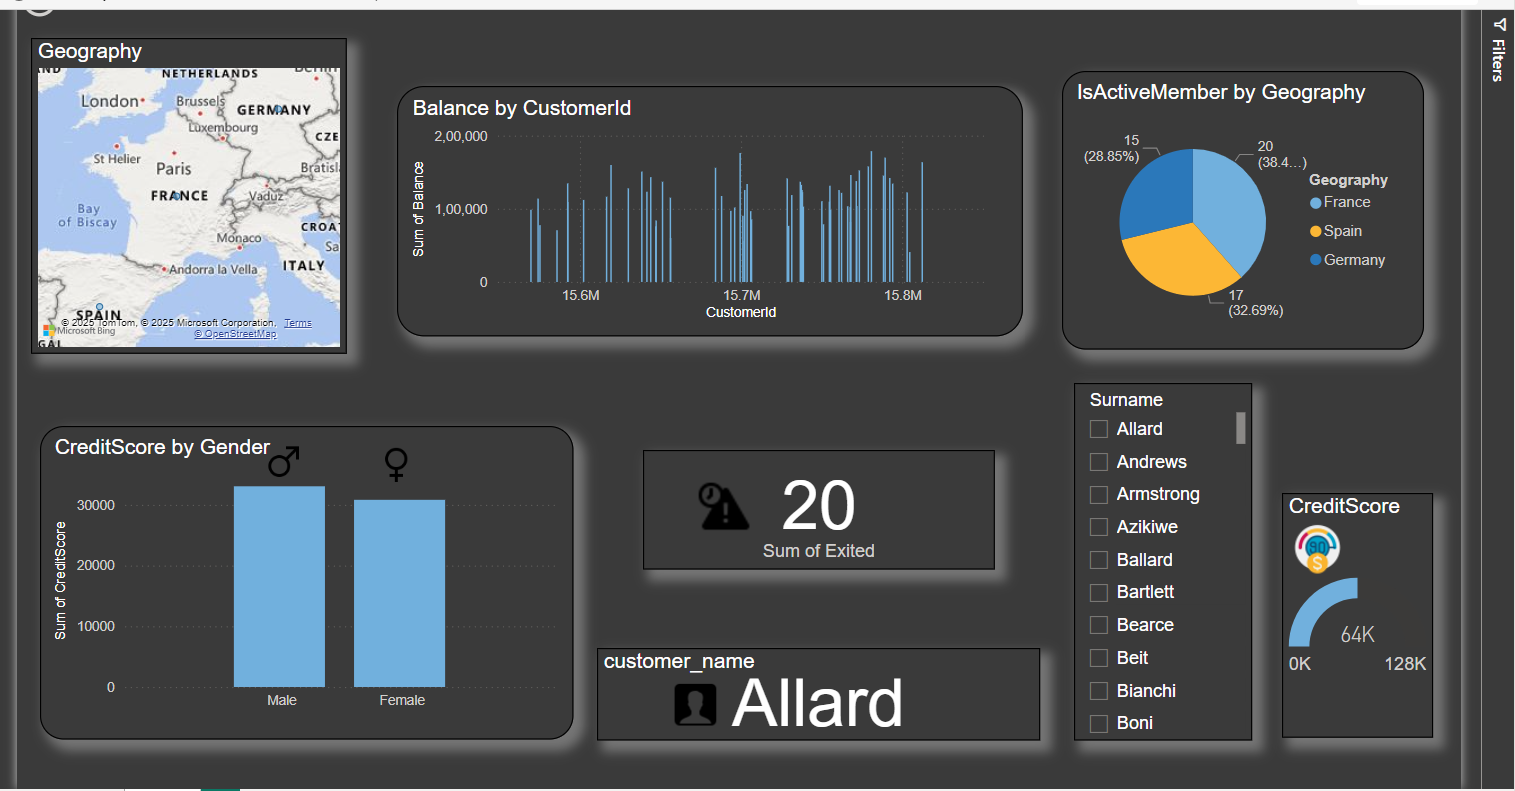

This screenshot's page, from the dashboard's own definition file:
{"tool":"powerbi","page":{"name":"Page 1","canvas":[1280,720],"ordinal":0},"visuals":[{"type":"map","fields":{"Category":["Bank_Churn.Geography"]},"box":[12.4,54.1,280.2,280.2],"z":0},{"type":"columnChart","title":"Balance by CustomerId","fields":{"Category":["Bank_Churn.CustomerId"],"Y":["Bank_Churn.Balance"]},"box":[336.9,96.7,555.1,221.7],"z":1000},{"type":"card","title":"customer_name","fields":{"Values":["Bank_Churn.Surname"]},"box":[514.3,595,392.8,81.6],"z":2000},{"type":"card","fields":{"Values":["Bank_Churn.Exited"]},"box":[555.1,419.4,312.1,105.5],"z":3000},{"type":"pieChart","title":"IsActiveMember by Geography","fields":{"Y":["Bank_Churn.IsActiveMember"],"Category":["Bank_Churn.Geography"]},"box":[926.6,83.3,321,247.4],"z":4000},{"type":"columnChart","title":"CreditScore by Gender","fields":{"Category":["Bank_Churn.Gender"],"Y":["Bank_Churn.CreditScore"]},"box":[20.4,398.1,472.6,278.4],"z":5000},{"type":"actionButton","box":[0,0,100,40],"z":6000},{"type":"gauge","title":"CreditScore","fields":{"Y":["Bank_Churn.CreditScore"]},"box":[1121.7,457.5,133.9,217.2],"z":7000},{"type":"slicer","fields":{"Values":["Bank_Churn.Surname"]},"box":[937.2,360,157.8,316.6],"z":8000},{"type":"image","box":[599.4,443.3,57.6,57.6],"z":8001},{"type":"image","box":[574.6,616.3,54.1,58.5],"z":8002},{"type":"image","box":[1121.7,477.9,63,59.4],"z":8003},{"type":"image","box":[215.5,408.8,41.7,41.7],"z":8004},{"type":"image","box":[314.8,408.8,43.4,48.8],"z":8005}]}

Visuals, with their boxes on the page's 1280x720 design canvas (x1, y1, x2, y2). These are canvas units, not pixel positions in the 1515x791 screenshot, which may show the page scaled, cropped or inside an application window:
map - Bank_Churn.Geography: region(12, 54, 293, 334)
"Balance by CustomerId" columnChart: region(337, 97, 892, 318)
"customer_name" card: region(514, 595, 907, 677)
card - Bank_Churn.Exited: region(555, 419, 867, 525)
"IsActiveMember by Geography" pieChart: region(927, 83, 1248, 331)
"CreditScore by Gender" columnChart: region(20, 398, 493, 676)
actionButton: region(0, 0, 100, 40)
"CreditScore" gauge: region(1122, 458, 1256, 675)
slicer - Bank_Churn.Surname: region(937, 360, 1095, 677)
image: region(599, 443, 657, 501)
image: region(575, 616, 629, 675)
image: region(1122, 478, 1185, 537)
image: region(216, 409, 257, 450)
image: region(315, 409, 358, 458)
